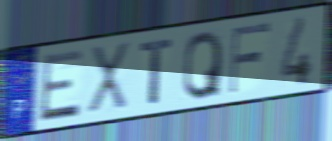4: (278, 15, 313, 87)
E: (37, 47, 85, 125)
F: (227, 20, 273, 97)
Q: (181, 28, 223, 102)
T: (139, 35, 176, 106)
X: (85, 39, 131, 115)
